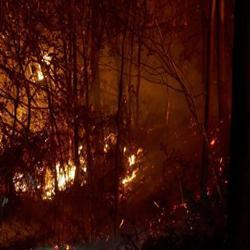fire: (44, 163, 79, 191)
